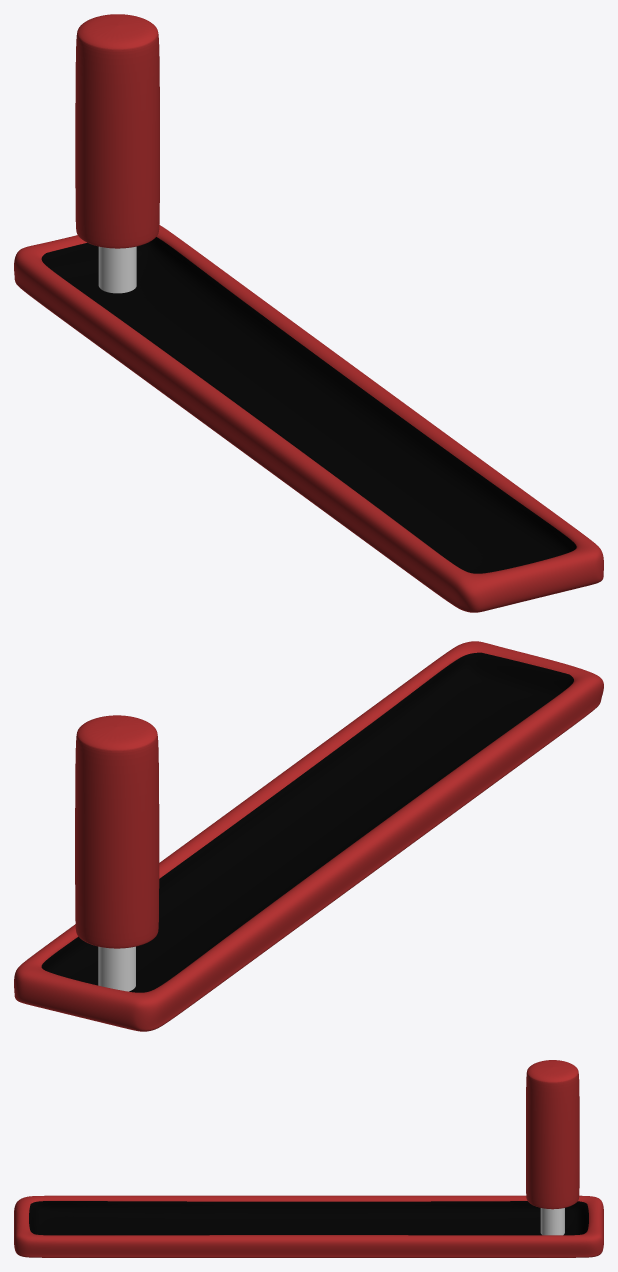
The model's file is deneme.fbx.
The picture shows the model from 3 angles, top to bottom: view 1: azimuth 30°, elevation 25°; view 2: azimuth 150°, elevation 25°; view 3: azimuth 270°, elevation 25°; orthographic projection. The views are drawn at different scales.
Visible parts, largest first — view 1: Cube, Cylinder; view 2: Cube, Cylinder; view 3: Cube, Cylinder.
Boxes of the visible parts, box(x1,y1,x2,y2) form: Cube: box(14, 225, 603, 612); Cylinder: box(75, 14, 159, 293); Cube: box(14, 641, 603, 1031); Cylinder: box(75, 715, 159, 991); Cube: box(14, 1195, 603, 1257); Cylinder: box(526, 1060, 579, 1235).
Bounding box in the file's own units: 157 × 270 × 856.
